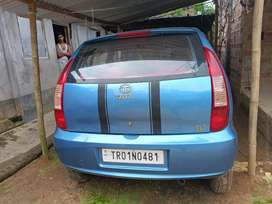TR01N0481: (102, 148, 164, 163)
